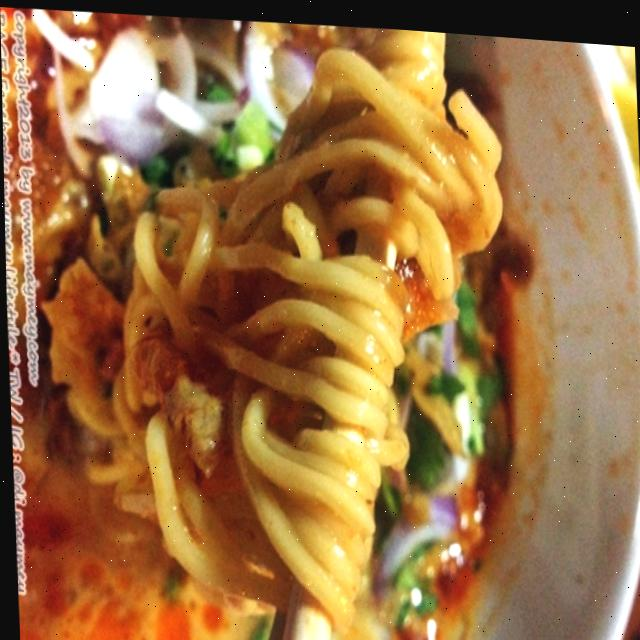面条主食: (9, 12, 640, 640)
